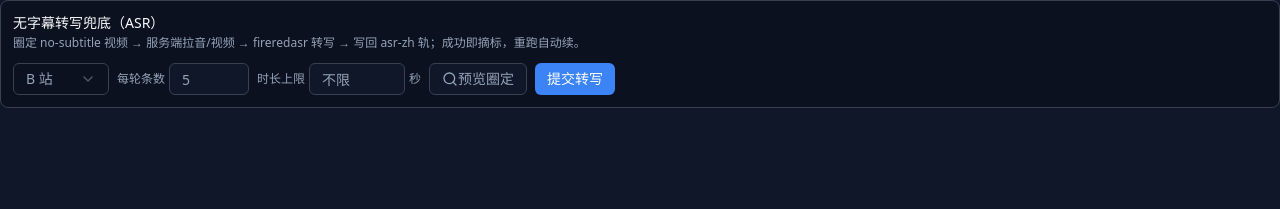
提交转写：无 warning 不出黄条（页面无 alert）
The width and height of the screenshot is (1280, 209).
Click the button "提交转写": (575, 79) [535,63,615,95]
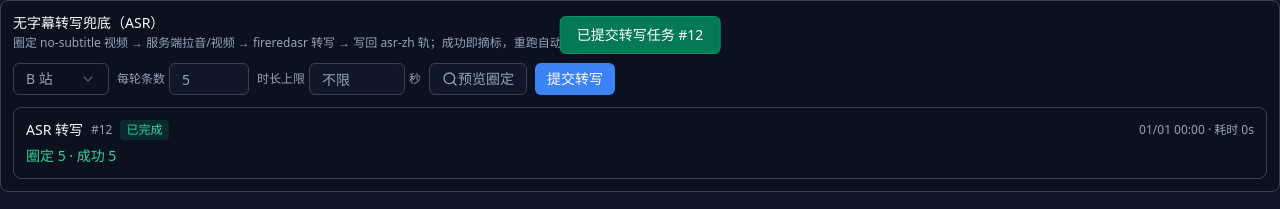
Now the text "圈定 5 · 成功 5" is shown, box [26,146,116,165]
